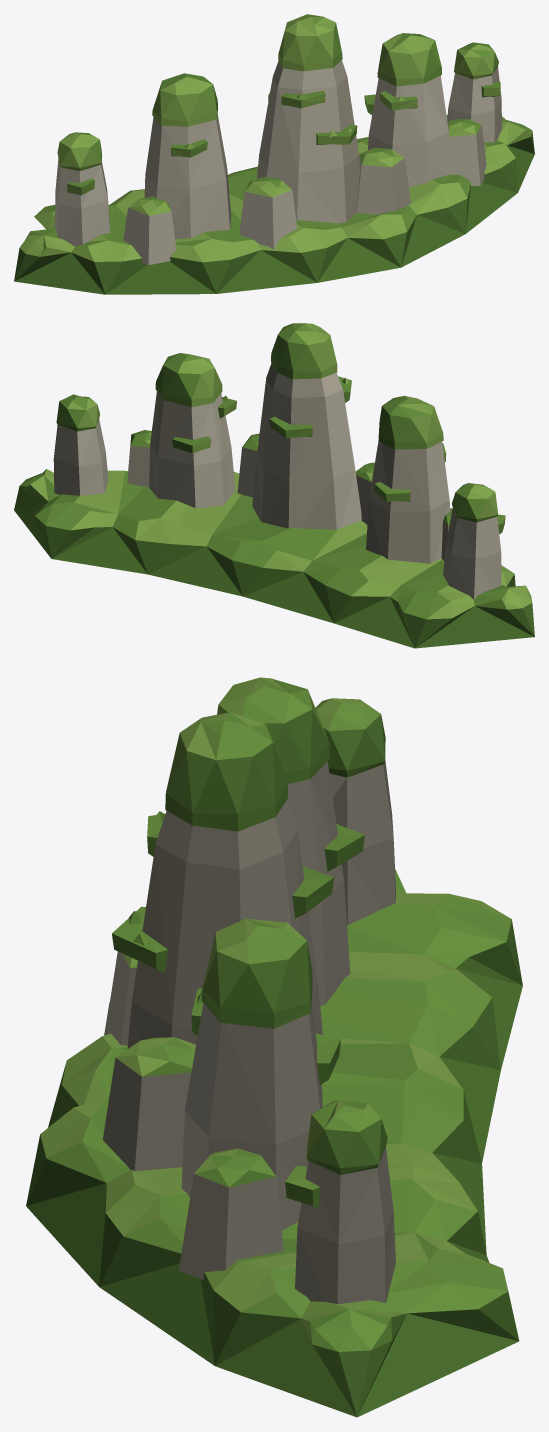
Rendered from karst_ridge.glb.
The picture shows the model from 3 angles, top to bottom: view 1: azimuth 30°, elevation 25°; view 2: azimuth 150°, elevation 25°; view 3: azimuth 270°, elevation 25°; orthographic projection. The views are drawn at different scales.
Parts seen in each view (by area): view 1: karst_ridge; view 2: karst_ridge; view 3: karst_ridge.
Boxes of the visible parts, x1,y1,x2,y2 form: karst_ridge: (14, 14, 534, 294); karst_ridge: (14, 323, 534, 648); karst_ridge: (26, 677, 522, 1417).
Bounding box in the file's own units: 2.8 × 1.15 × 1.16.
